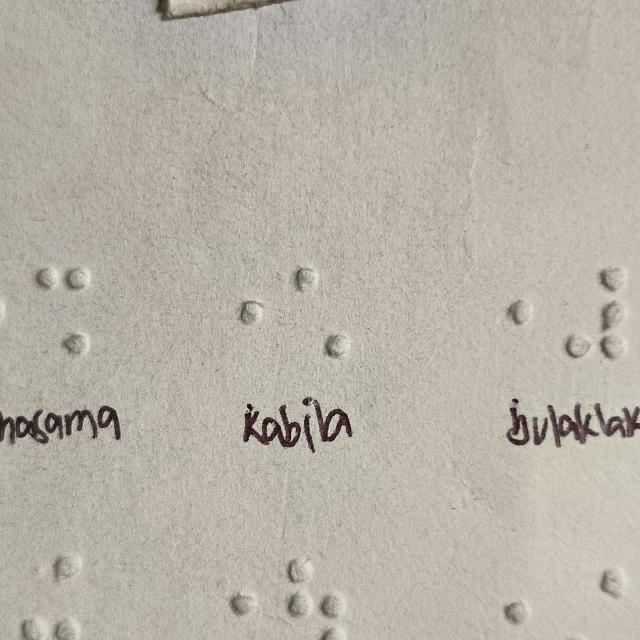dot_5: (209, 268, 268, 363), (475, 266, 534, 361)
two_cell_non_alphabet_bulaklak: (564, 264, 624, 359)
two_cell_non_alphabet_kabila: (293, 267, 352, 361)
two_cell_non_alphabet_masama: (33, 264, 92, 359)
